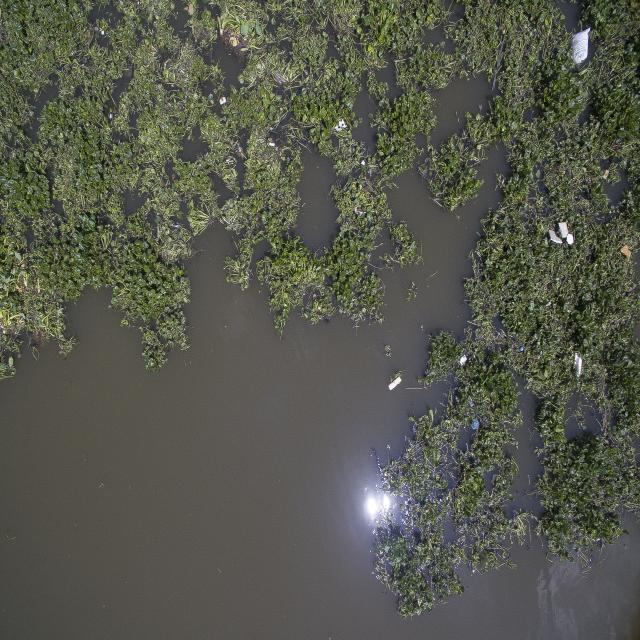plastic: (566, 24, 598, 78), (544, 214, 581, 253), (568, 336, 588, 383), (379, 370, 408, 397), (330, 116, 351, 141), (452, 350, 472, 369), (215, 89, 232, 111)
